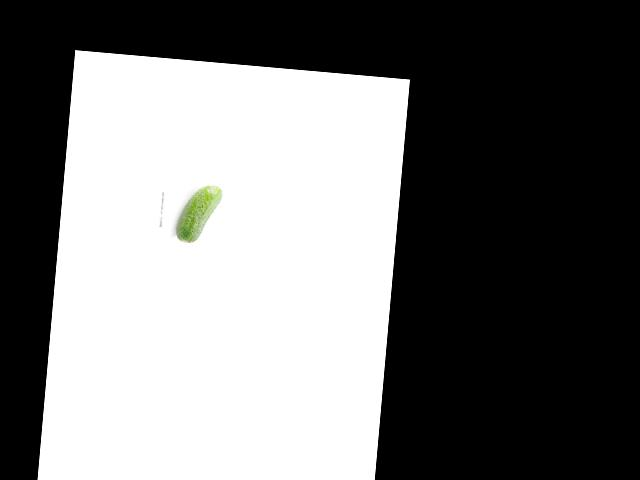cucumber: (174, 183, 223, 245)
